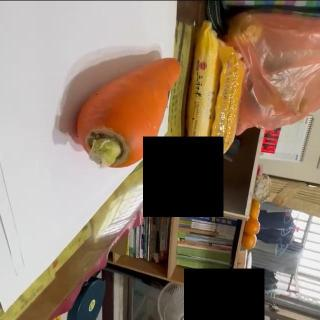carrot: (76, 58, 182, 170)
